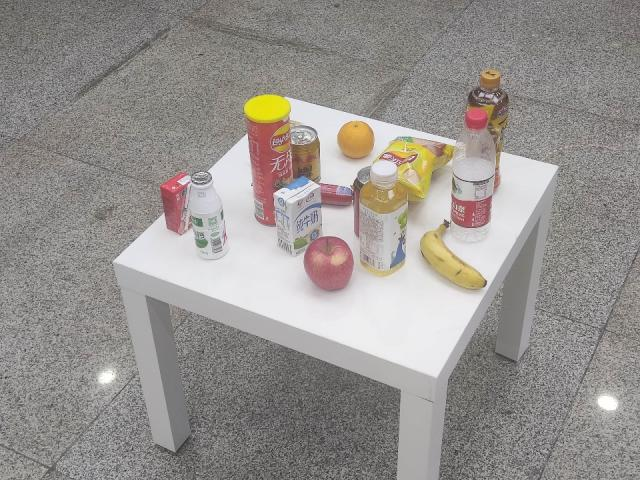Canned_drinks: (289, 126, 327, 185)
bottle: (449, 105, 498, 230), (191, 171, 229, 263)
cylinder: (242, 92, 292, 229)
drink_box: (268, 174, 326, 258), (159, 174, 193, 237)
